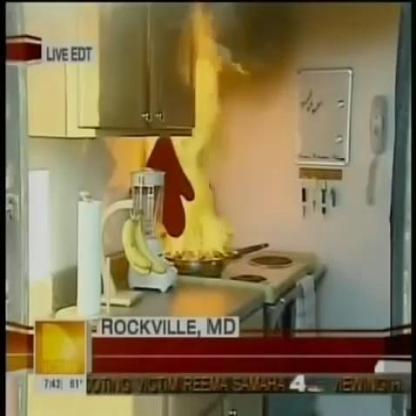fire: (172, 133, 233, 261)
